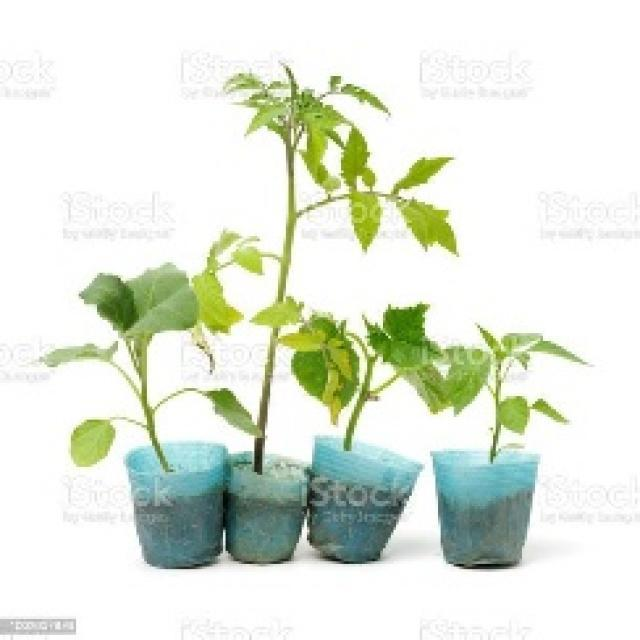brinjal: (45, 264, 254, 470)
plant: (291, 304, 490, 450), (480, 329, 584, 463), (71, 420, 114, 466), (205, 393, 252, 429)
tomato: (191, 66, 459, 473)
